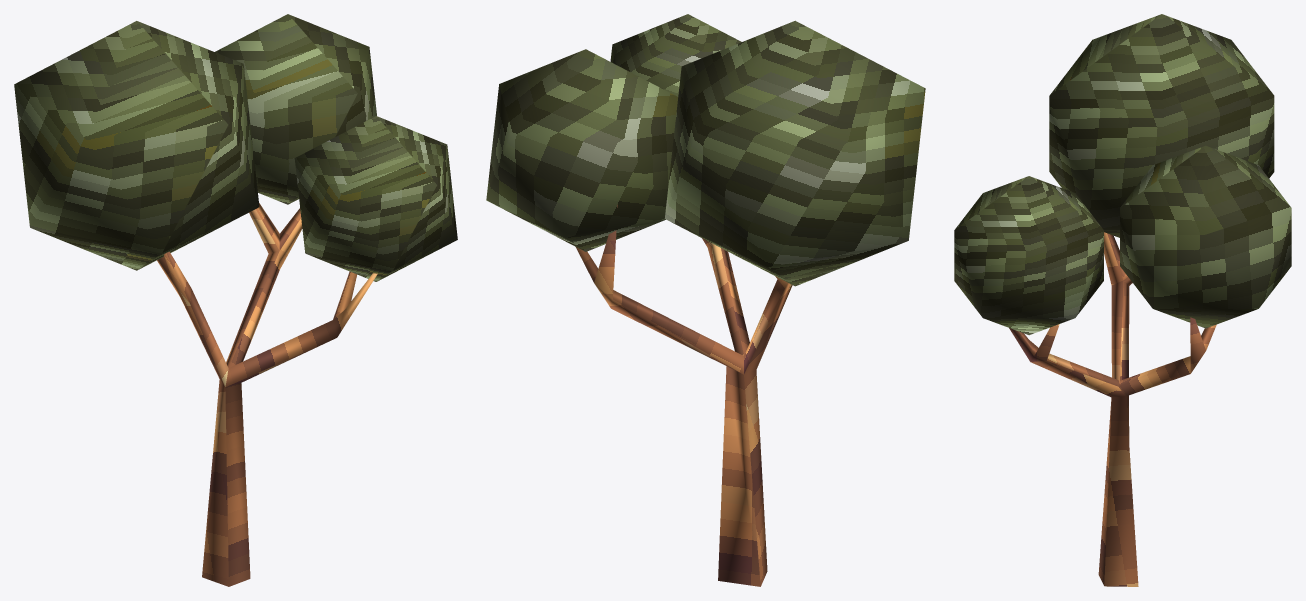
The model's file is tree.glb.
3 views of the same model, side by side, from view 1: azimuth 30°, elevation 25°; view 2: azimuth 150°, elevation 25°; view 3: azimuth 270°, elevation 25° (orthographic). The views are drawn at different scales.
Visible parts, largest first — view 1: Tree; view 2: Tree; view 3: Tree.
Boxes of the visible parts, x1,y1,x2,y2 form: Tree: (14,14,457,586); Tree: (486,14,925,586); Tree: (954,14,1291,586).
Size of the model in its own units: 12.63 by 18.54 by 10.63.
Materials: 1 (1 with a texture image).
